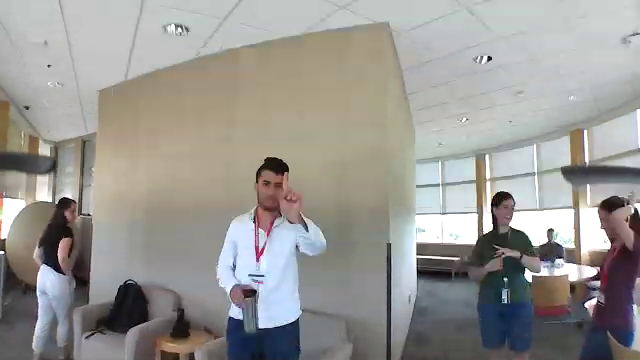up: (276, 167, 305, 221)
